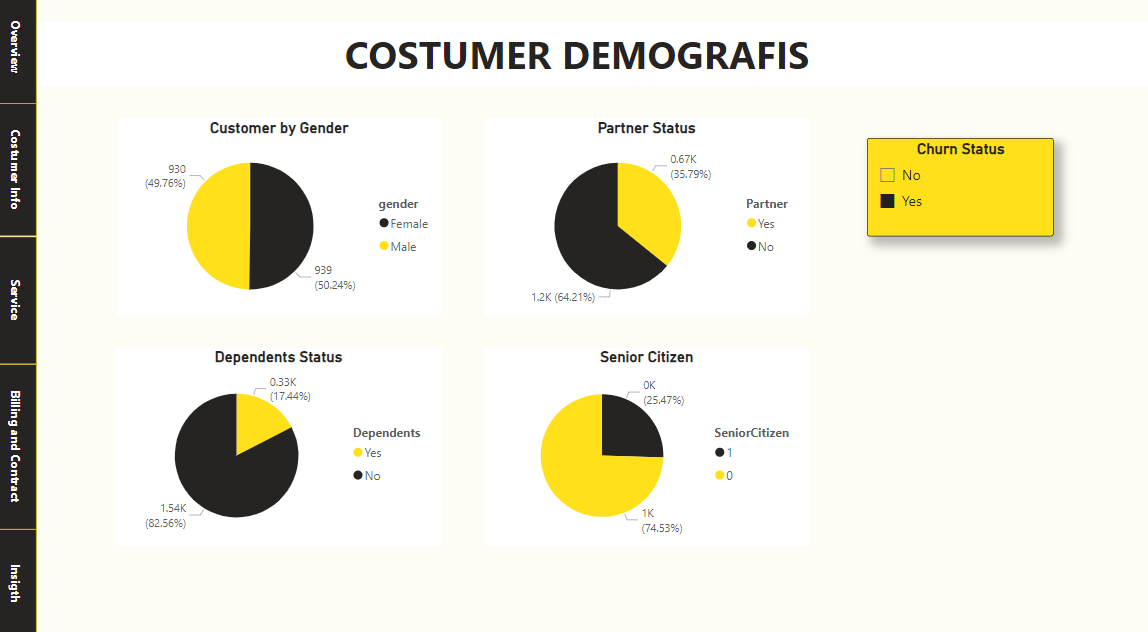

The page's visual inventory and layout, read from the dashboard file:
{"tool":"powerbi","page":{"name":"Customer Info","canvas":[1280,720],"ordinal":1},"visuals":[{"type":"textbox","box":[9.5,35,1269.3,71.6],"z":0},{"type":"pieChart","title":"Customer by Gender","fields":{"Category":["Tabel.gender"],"Y":["CountNonNull(Tabel.gender)"]},"box":[133.4,141.4,360.5,219.1],"z":1000},{"type":"pieChart","title":"Dependents Status","fields":{"Category":["Tabel.Dependents"],"Y":["CountNonNull(Tabel.Dependents)"]},"box":[131.5,396.4,362.5,219.1],"z":2000},{"type":"slicer","title":"Churn Status","fields":{"Values":["Tabel.Churn"]},"box":[966,163.3,207.1,109.5],"z":3000},{"type":"pieChart","title":"Senior Citizen","fields":{"Category":["Tabel.SeniorCitizen"],"Y":["Tabel.Total Pelanggan"]},"box":[541.8,396.4,360.5,219.1],"z":4000},{"type":"pieChart","title":"Partner Status","fields":{"Category":["Tabel.Partner"],"Y":["CountNonNull(Tabel.Partner)"]},"box":[541.8,141.4,360.5,219.1],"z":5000},{"type":"shape","box":[0,0,43.8,125.5],"z":6000},{"type":"shape","box":[0,125.5,43.8,147.4],"z":7000},{"type":"shape","box":[0,272.9,43.8,141.4],"z":8000},{"type":"shape","box":[0,414.3,43.8,183.2],"z":9000},{"type":"shape","box":[0,597.5,43.8,121.5],"z":10000}]}

Visuals, with their boxes on the page's 1280x720 design canvas (x1, y1, x2, y2). These are canvas units, not pixel positions in the 1148x632 screenshot, which may show the page scaled, cropped or inside an application window:
textbox: left=10, top=35, right=1279, bottom=107
"Customer by Gender" pieChart: left=133, top=141, right=494, bottom=360
"Dependents Status" pieChart: left=132, top=396, right=494, bottom=616
"Churn Status" slicer: left=966, top=163, right=1173, bottom=273
"Senior Citizen" pieChart: left=542, top=396, right=902, bottom=616
"Partner Status" pieChart: left=542, top=141, right=902, bottom=360
shape: left=0, top=0, right=44, bottom=126
shape: left=0, top=126, right=44, bottom=273
shape: left=0, top=273, right=44, bottom=414
shape: left=0, top=414, right=44, bottom=598
shape: left=0, top=598, right=44, bottom=719
